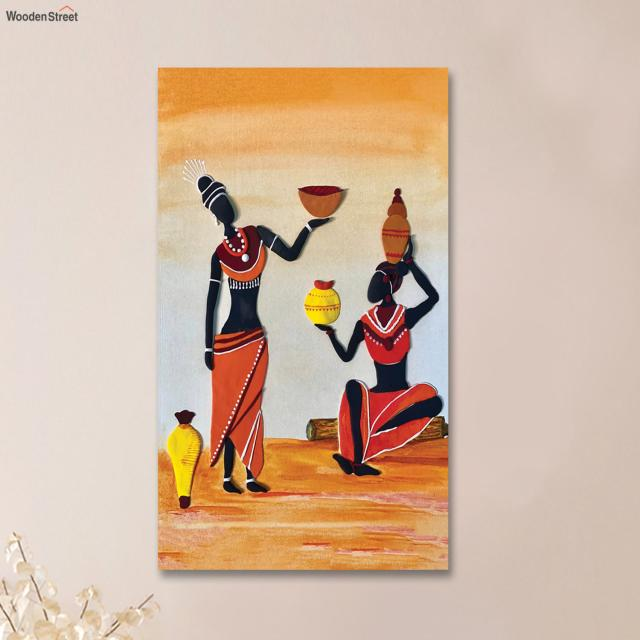painting: (156, 66, 449, 571)
